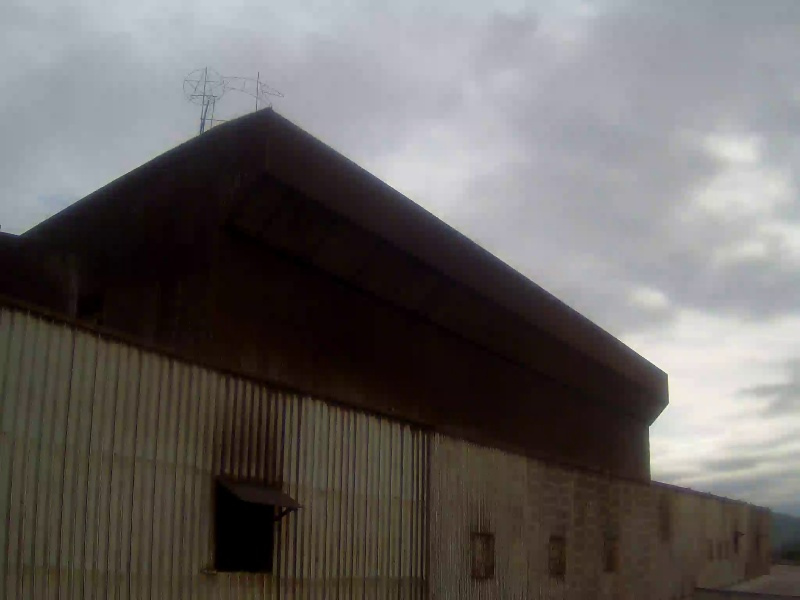bom: (249, 42, 683, 455), (9, 12, 271, 185), (610, 254, 800, 465)
